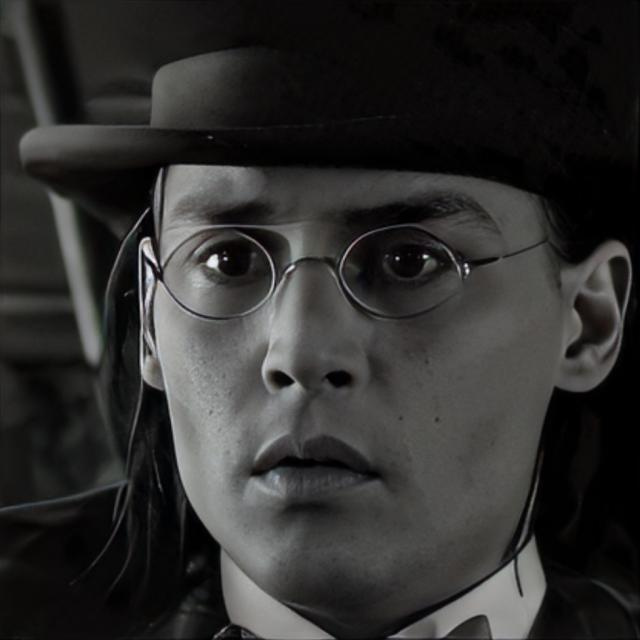fear: (152, 160, 556, 621)
